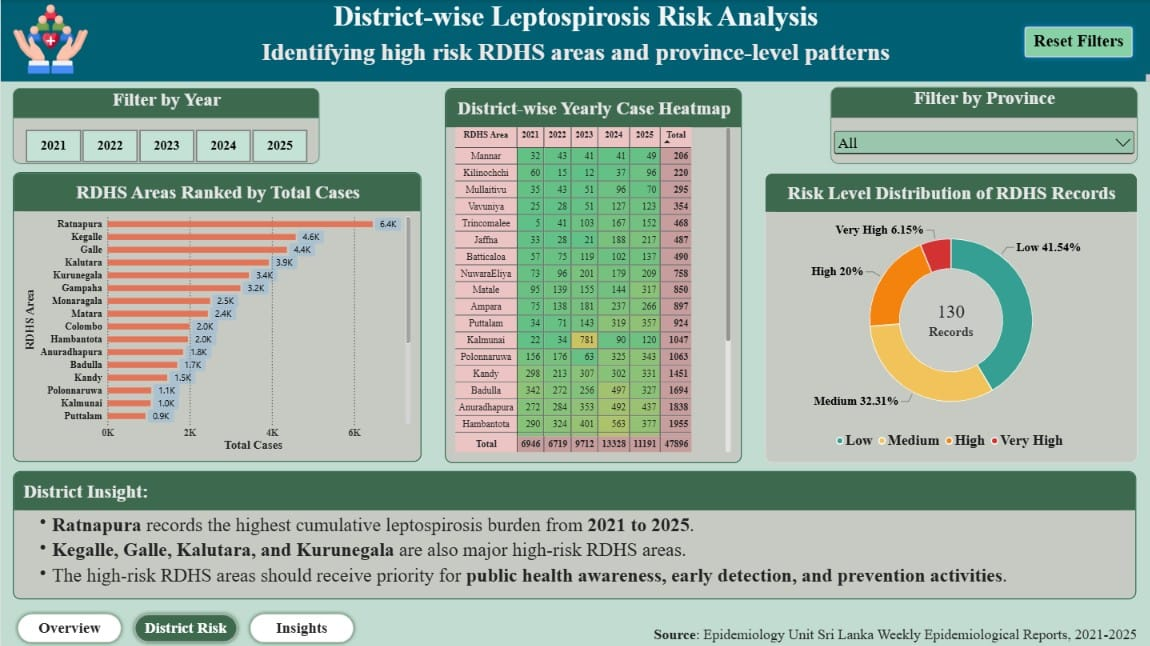

What the dashboard file says about the page in this screenshot:
{"tool":"powerbi","page":{"name":"District Risk ","canvas":[1920,1080],"ordinal":1},"visuals":[{"type":"textbox","title":"District-wise Leptospirosis Risk Analysis","box":[0,0,1920.1,135.7],"z":0},{"type":"clusteredBarChart","title":"RDHS Areas Ranked by Total Cases","fields":{"Category":["Leptospirosis_Data.RDHS Area"],"Y":["Leptospirosis_Data.Total Cases"]},"box":[20.6,286.8,682.4,484.3],"z":1000},{"type":"donutChart","title":"Risk Level Distribution of RDHS Records","fields":{"Category":["Leptospirosis_Data.Risk Level"],"Y":["CountNonNull(Leptospirosis_Data.RDHS Area)"]},"box":[1276.2,288.8,622.5,483.8],"z":2000},{"type":"pivotTable","title":"District-wise Yearly Case Heatmap","fields":{"Columns":["Leptospirosis_Data.Year"],"Rows":["Leptospirosis_Data.RDHS Area"],"Values":["Leptospirosis_Data.Total Cases"]},"box":[741.6,146.2,496,626],"z":3000},{"type":"slicer","title":"Filter by Province","fields":{"Values":["Leptospirosis_Data.Province"]},"box":[1386,146,512,128],"z":4000},{"type":"slicer","title":"Filter by Year","fields":{"Values":["Leptospirosis_Data.Year"]},"box":[20.4,146.3,512.1,126.7],"z":5000},{"type":"actionButton","box":[1701.1,36.2,196.3,66.7],"z":6000},{"type":"textbox","title":"District Insight:","box":[20.6,786.8,1876,214],"z":7000},{"type":"image","box":[0,0,166.5,135.7],"z":8000},{"type":"textbox","box":[1069.5,1046,827,32.6],"z":9000},{"type":"pageNavigator","box":[21.2,1018.8,576.2,61.2],"z":10000}]}

Visuals, with their boxes in screenshot pixels (x1, y1, x2, y2), scaled from the page's 1920x1080 canvas onto the 1150x646 screenshot:
"District-wise Leptospirosis Risk Analysis" textbox: {"x1": 0, "y1": 0, "x2": 1149, "y2": 81}
"RDHS Areas Ranked by Total Cases" clusteredBarChart: {"x1": 12, "y1": 172, "x2": 421, "y2": 461}
"Risk Level Distribution of RDHS Records" donutChart: {"x1": 764, "y1": 173, "x2": 1137, "y2": 462}
"District-wise Yearly Case Heatmap" pivotTable: {"x1": 444, "y1": 87, "x2": 741, "y2": 462}
"Filter by Province" slicer: {"x1": 830, "y1": 87, "x2": 1137, "y2": 164}
"Filter by Year" slicer: {"x1": 12, "y1": 88, "x2": 319, "y2": 163}
actionButton: {"x1": 1019, "y1": 22, "x2": 1136, "y2": 62}
"District Insight:" textbox: {"x1": 12, "y1": 471, "x2": 1136, "y2": 599}
image: {"x1": 0, "y1": 0, "x2": 100, "y2": 81}
textbox: {"x1": 641, "y1": 626, "x2": 1136, "y2": 645}
pageNavigator: {"x1": 13, "y1": 609, "x2": 358, "y2": 645}
